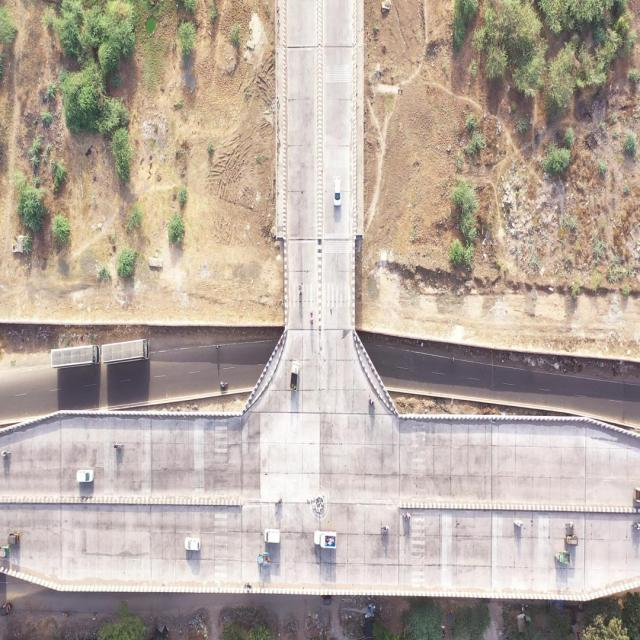3W: (0, 596, 16, 621), (8, 527, 24, 549), (319, 594, 333, 606), (564, 537, 580, 547)
Cars: (77, 468, 96, 487), (184, 536, 202, 553), (264, 526, 281, 544), (333, 175, 342, 209)
LCV: (313, 528, 338, 551), (292, 358, 301, 394), (554, 549, 571, 567), (256, 551, 271, 567)
M2W: (8, 528, 25, 547), (367, 396, 379, 412), (217, 378, 230, 392), (112, 440, 125, 452), (514, 518, 525, 532), (380, 522, 391, 535), (0, 449, 13, 459), (566, 520, 576, 530), (402, 511, 413, 520), (298, 282, 303, 300), (310, 309, 314, 327), (276, 497, 282, 508)
MAV: (51, 344, 100, 367), (102, 342, 152, 362)
